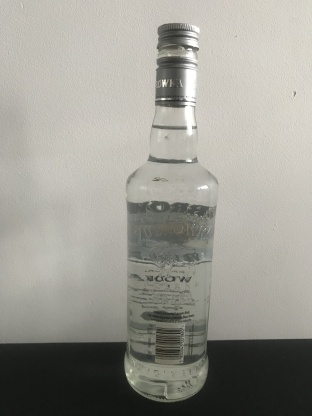nakretka: (153, 20, 200, 107)
